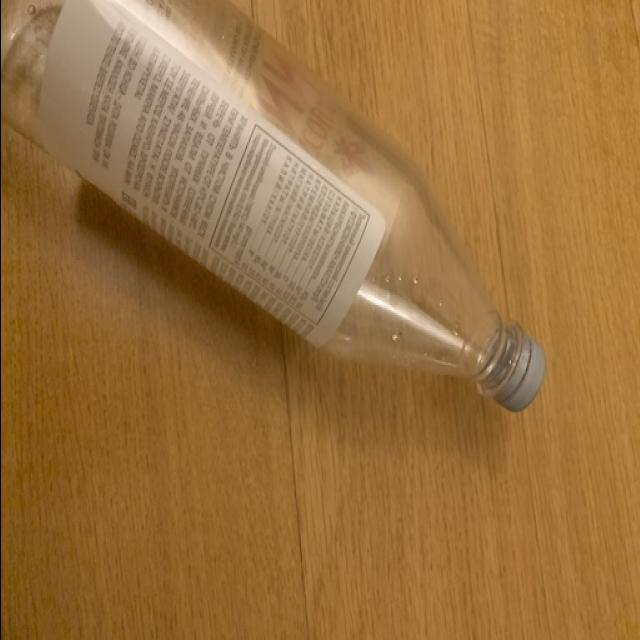PET: (4, 0, 546, 422)
